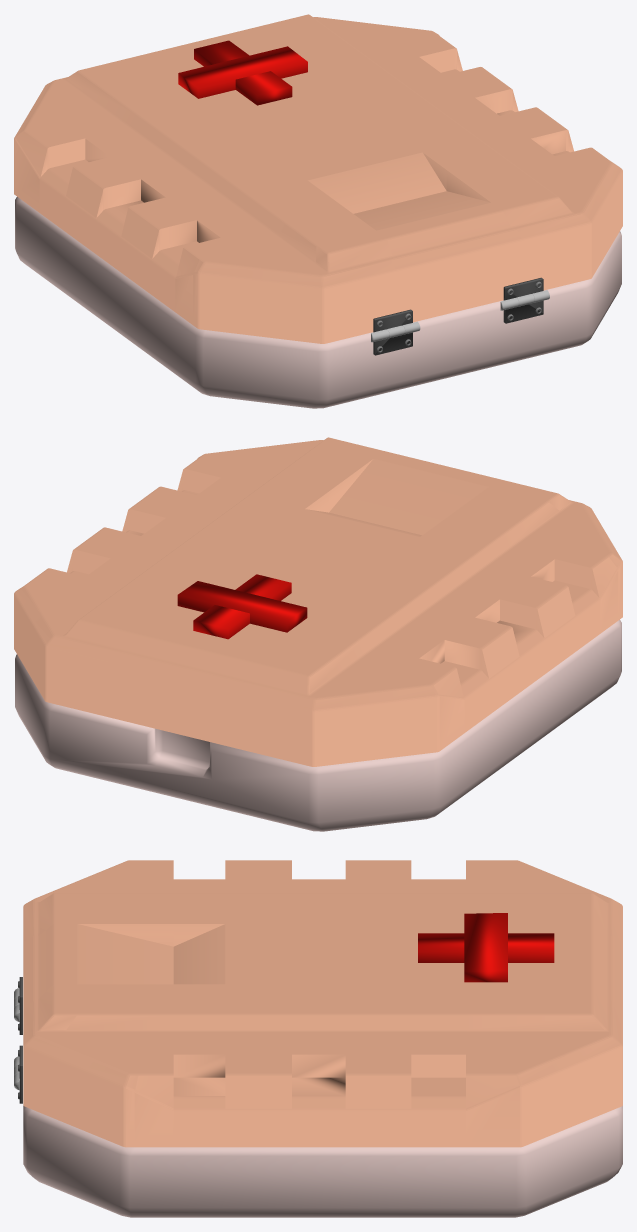
The model's file is SciFi_MedKit(Mid).fbx.
The picture shows the model from 3 angles, top to bottom: view 1: azimuth 30°, elevation 25°; view 2: azimuth 150°, elevation 25°; view 3: azimuth 270°, elevation 25°; orthographic projection. The views are drawn at different scales.
Parts seen in each view (by area): view 1: MedKit_Top, MedKit_Btm, Cross2, Cross, Plane, Cylinder.001; view 2: MedKit_Top, MedKit_Btm, Cross2, Cross; view 3: MedKit_Top, MedKit_Btm, Cross2, Cross.
Boxes of the visible parts, bbox=[...] form: MedKit_Top: bbox=[14, 14, 622, 343]; MedKit_Btm: bbox=[15, 197, 621, 408]; Cross2: bbox=[178, 46, 307, 98]; Cross: bbox=[194, 40, 292, 105]; Plane: bbox=[373, 277, 543, 355]; Cylinder.001: bbox=[371, 290, 549, 342]; MedKit_Top: bbox=[14, 437, 622, 766]; MedKit_Btm: bbox=[15, 620, 621, 831]; Cross2: bbox=[177, 581, 307, 632]; Cross: bbox=[193, 574, 291, 639]; MedKit_Top: bbox=[23, 860, 622, 1147]; MedKit_Btm: bbox=[23, 1106, 622, 1217]; Cross2: bbox=[464, 913, 507, 982]; Cross: bbox=[418, 933, 554, 962].
Bounding box in the file's own units: 194 × 69.56 × 223.
